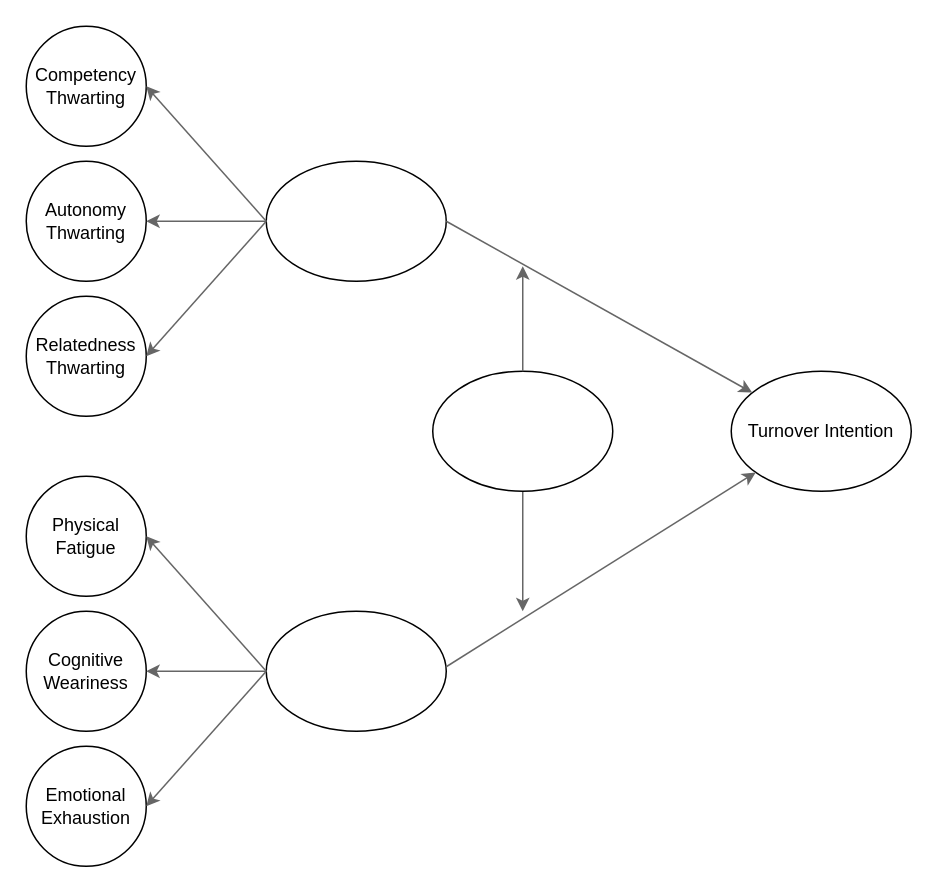
This 938x893 diagram has some shape labels left out. The shapes that lost their labels are listed below. From the top down, each one's centre as x and y in pixels, then its label:
the point at 355,220: Psychological Need Thwarting
the point at 522,430: Work Meetings
the point at 355,670: Burnout
